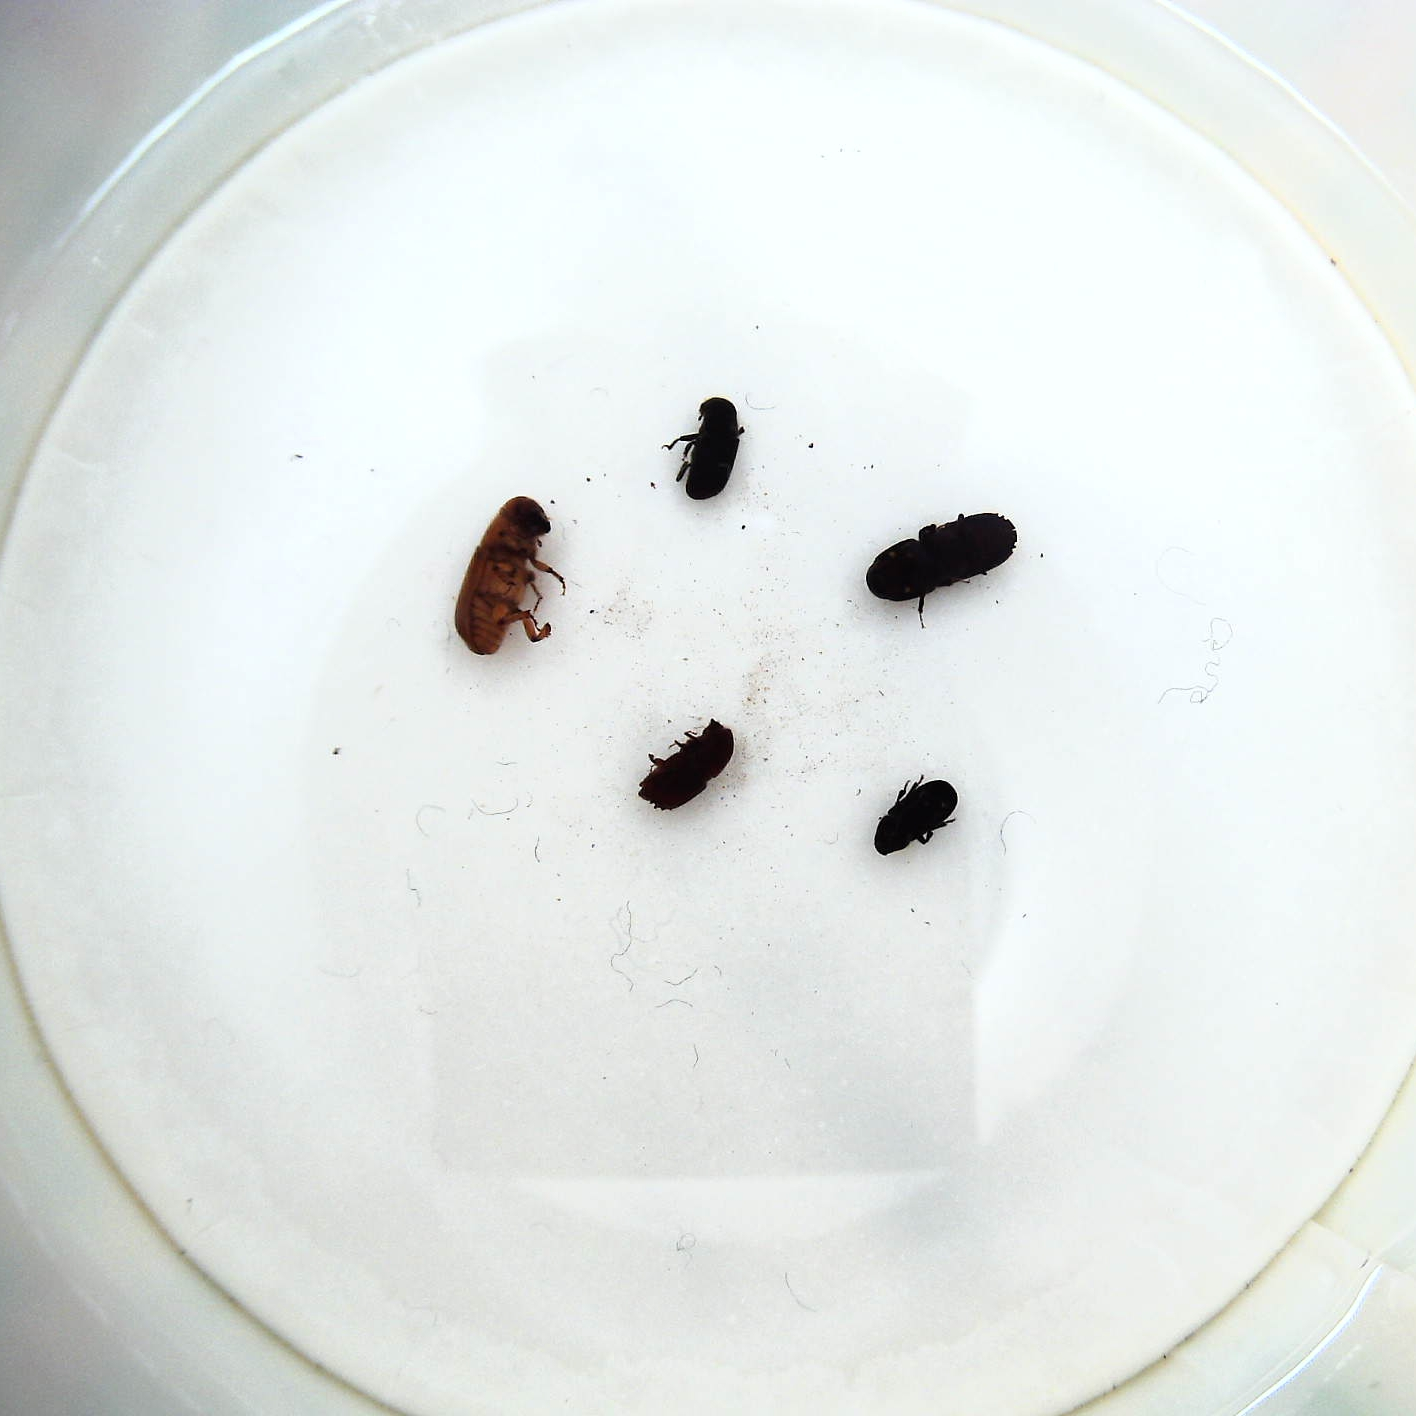Boerner: (857, 513, 1021, 615)
Leconte: (447, 495, 567, 657)
armandi: (669, 395, 753, 503)
coleoptera: (867, 773, 960, 861)
linnaeus: (631, 718, 737, 812)
